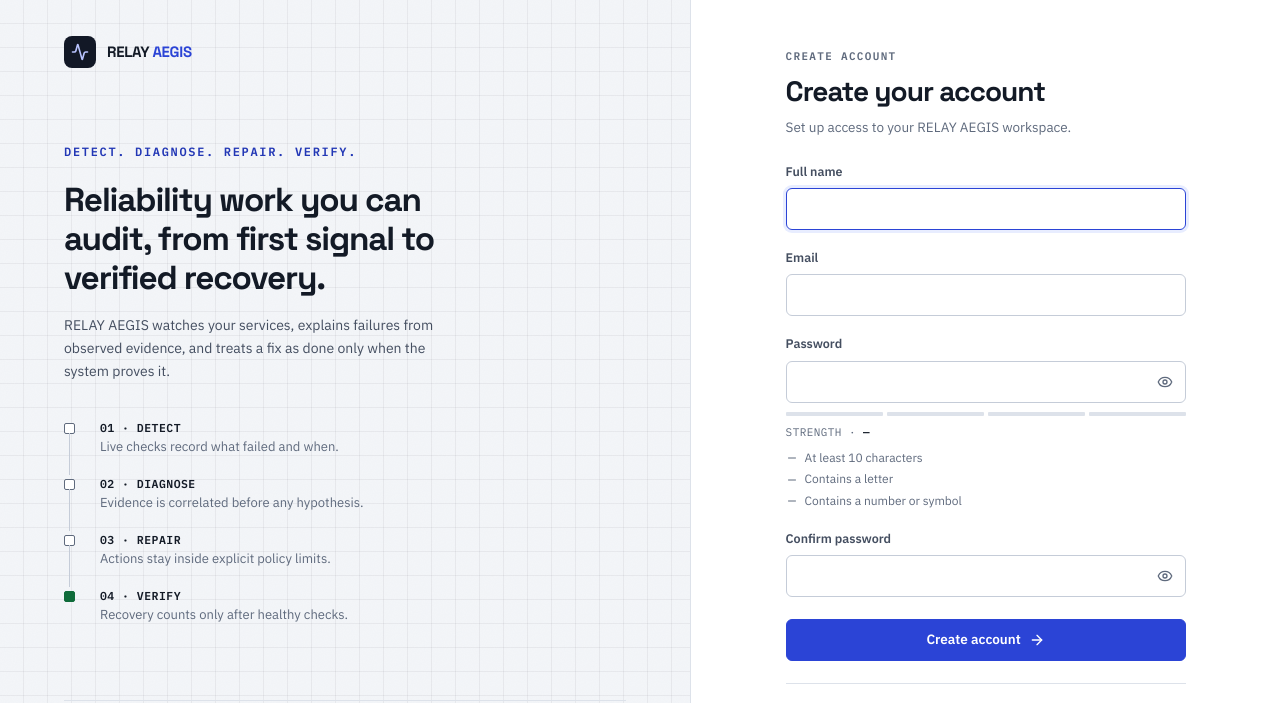
Test: registration › renders a duplicate-email conflict on the email field
This screenshot has width=1280, height=703.
Type "Ada Lovelace" into the field labelled "Full name". click: (986, 209)
box: left=786, top=188, right=1186, bottom=230
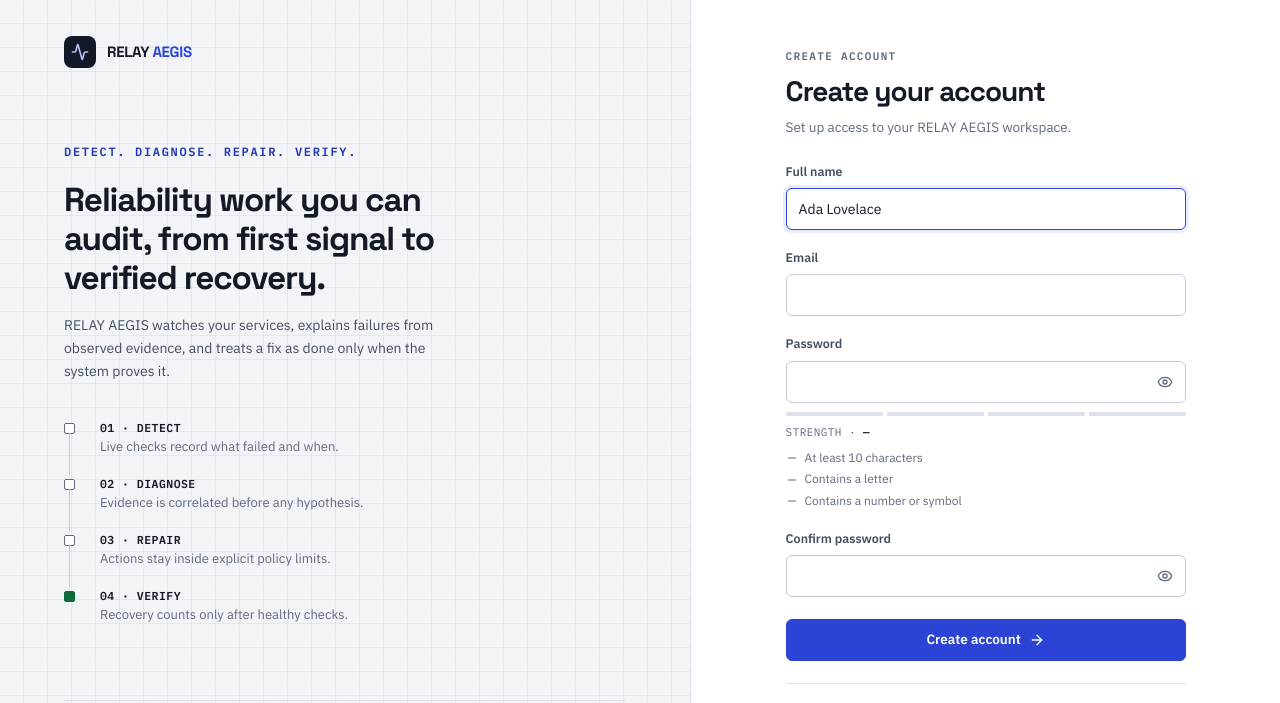
Type "ada@relay.test" into the field labelled "Email". click: (986, 295)
box: left=786, top=274, right=1186, bottom=316
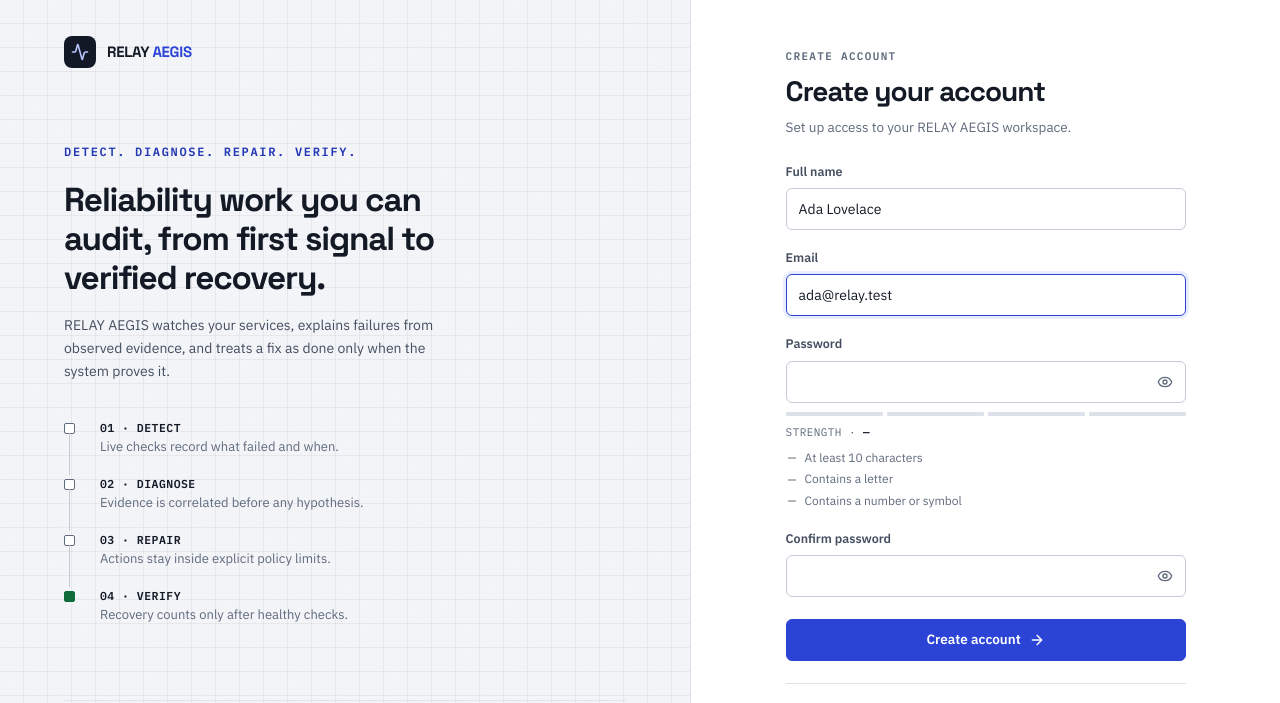
Type "Correct-Horse-42" into the password field labelled "Password". click: (986, 382)
box: left=786, top=361, right=1186, bottom=403
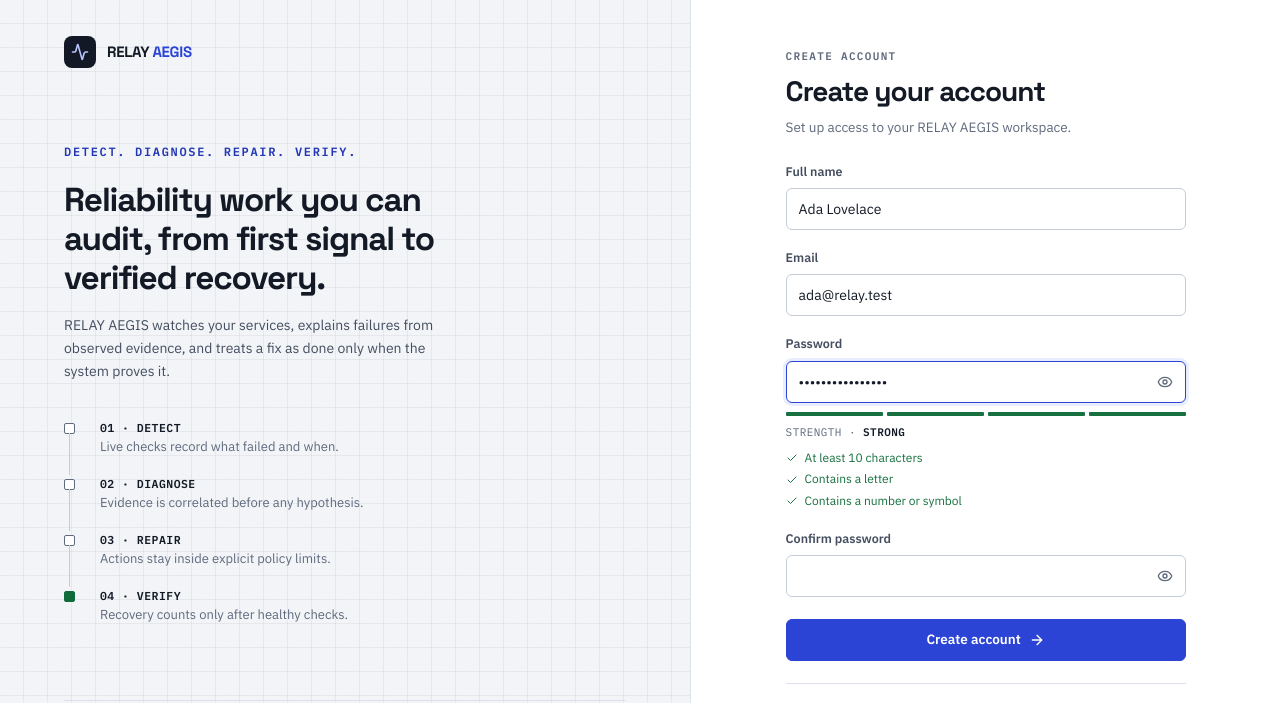
Type "Correct-Horse-42" into the password field labelled "Confirm password". click: (986, 576)
box: left=786, top=555, right=1186, bottom=597
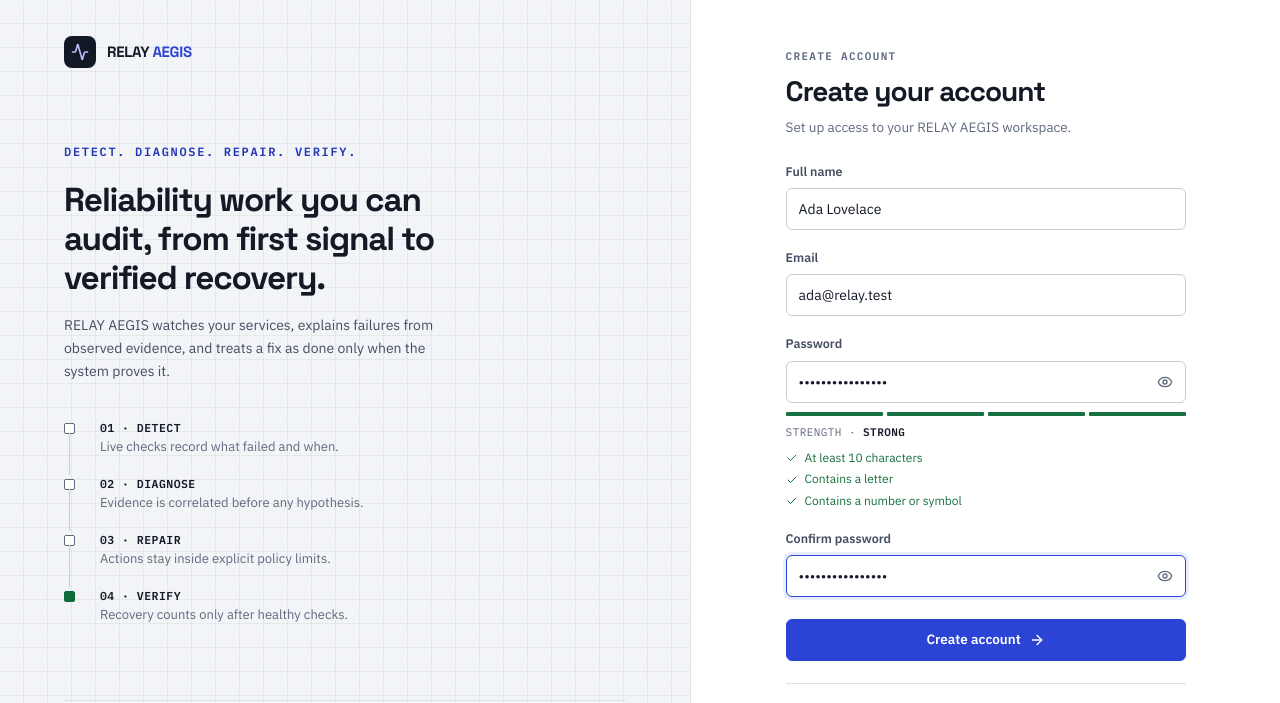
Click the button "Create account". click: (986, 640)
box: left=786, top=619, right=1186, bottom=661
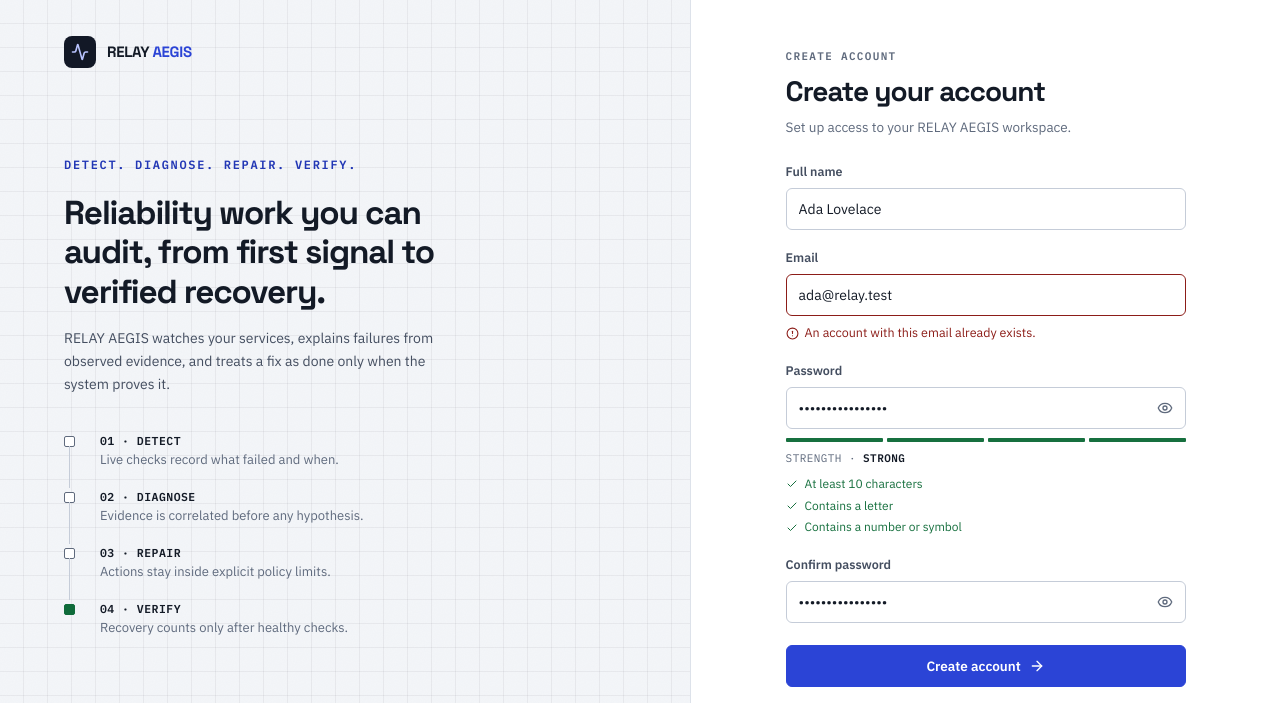
Expected: the text "An account with this email already exists." is shown, left=786, top=324, right=1036, bottom=340
